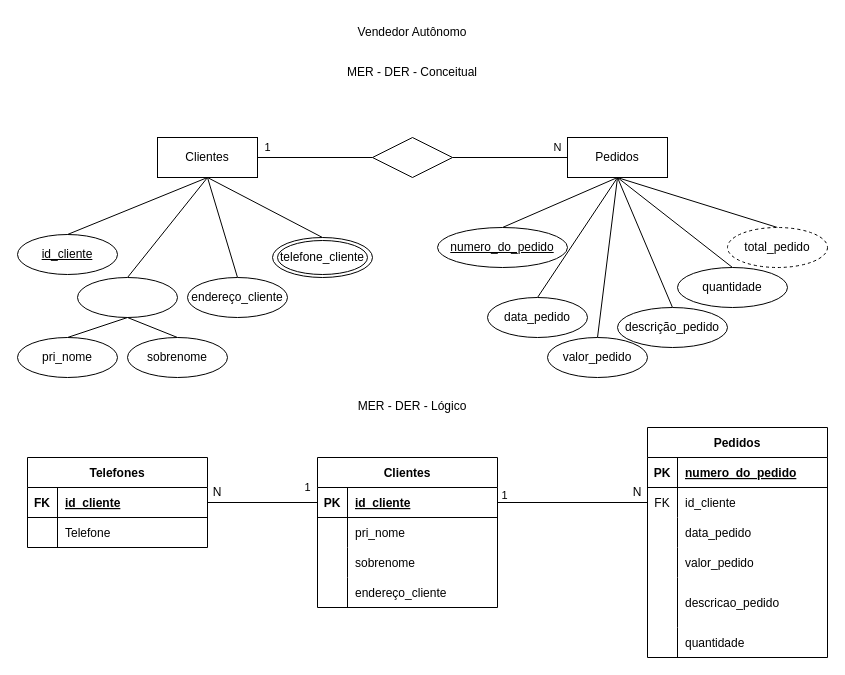
This 845x675 diagram has some shape labels left out. Each missing label, with the centre of its shape:
"faz" belongs at point 412,157.
"nome_cliente" belongs at point 127,297.
